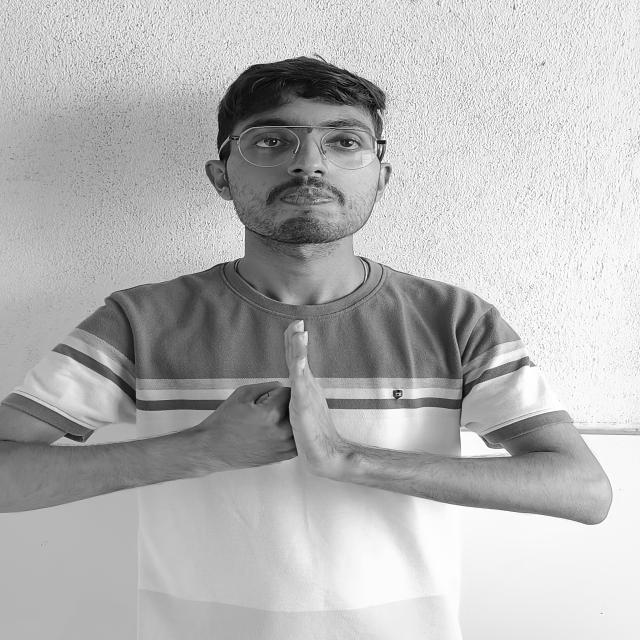Well Done: (146, 299, 450, 513)
